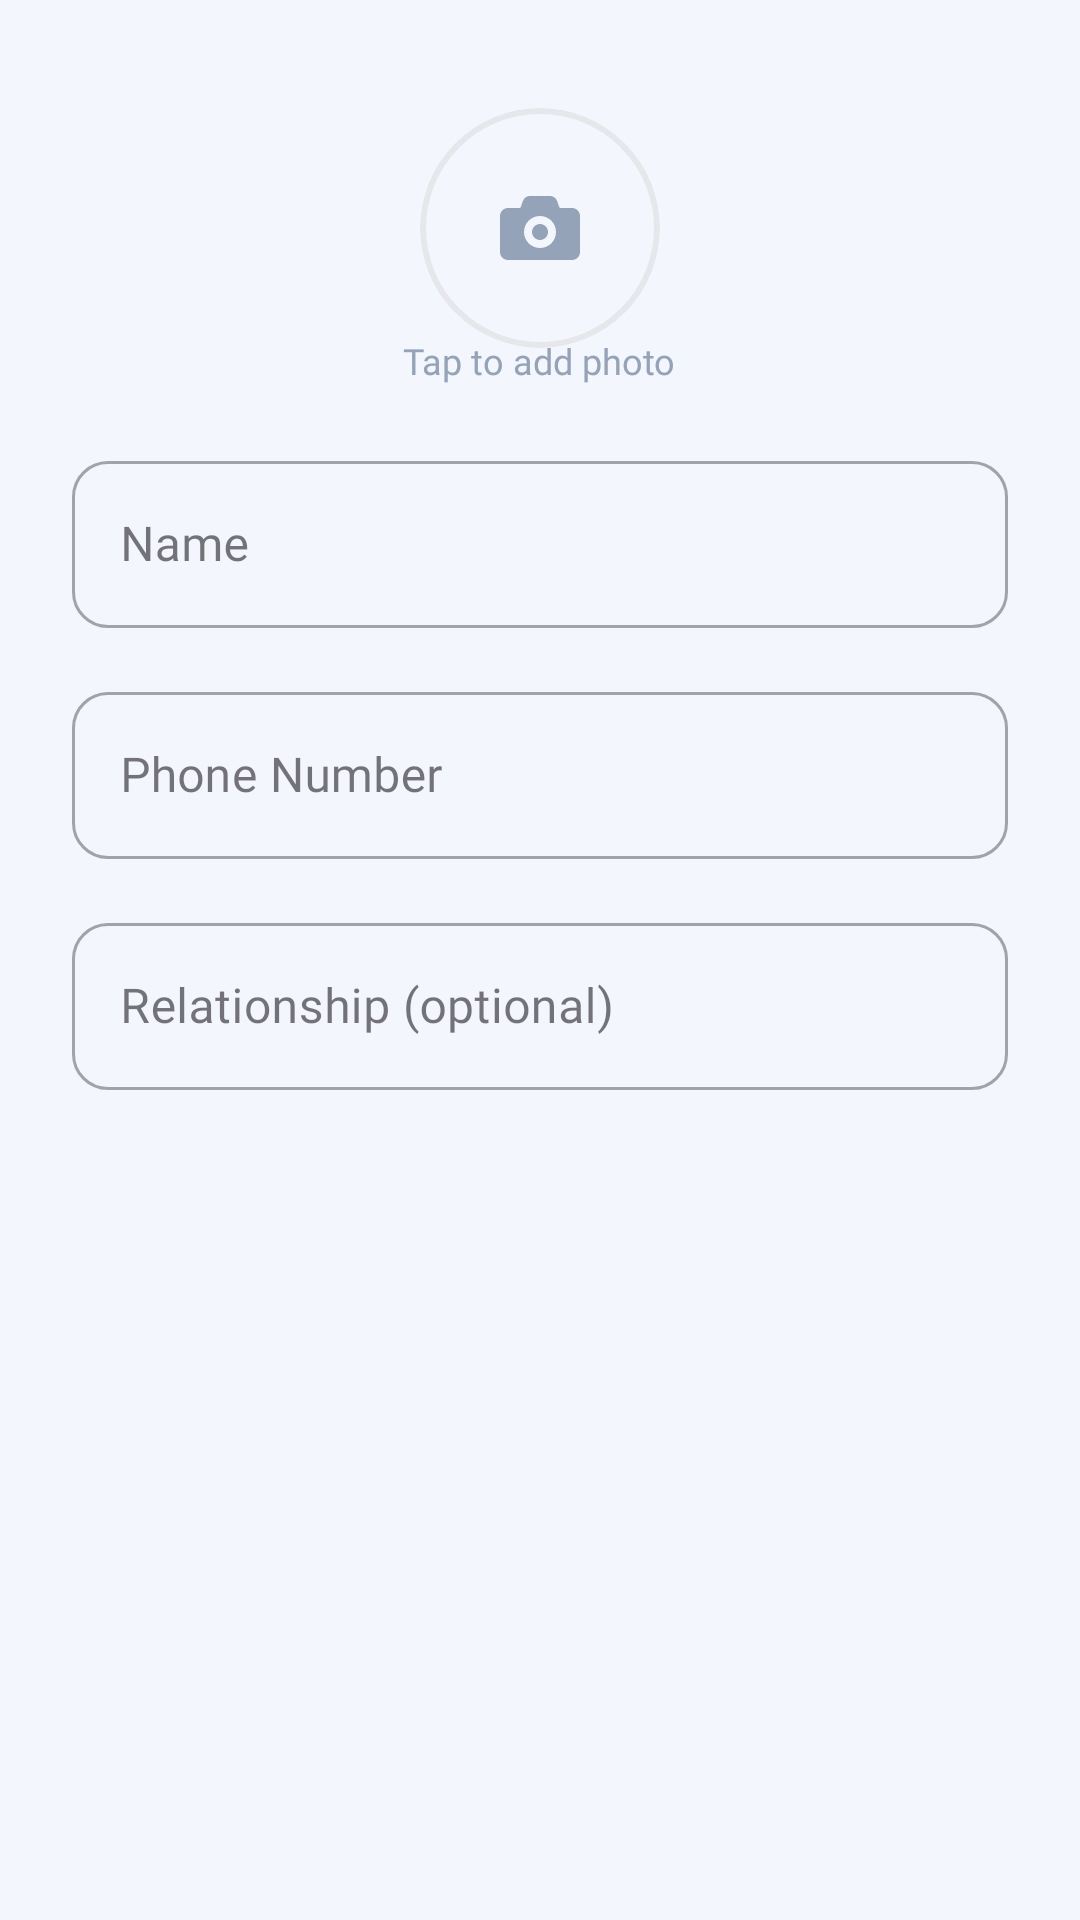

Icon bounding boxes for this 1080w x 1920h phone screenshot, format region(x1, y1, x2, y2):
camera: region(500, 196, 580, 260)
